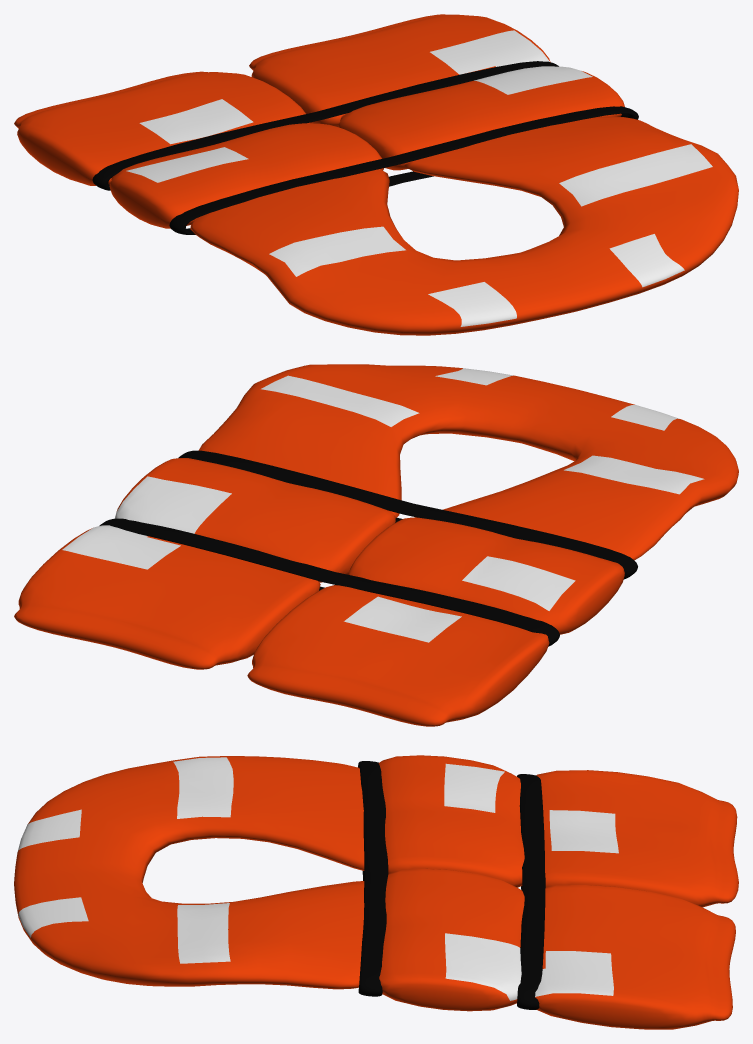
The model's file is flatjacket.fbx.
3 views of the same model, one above another, from view 1: azimuth 30°, elevation 25°; view 2: azimuth 150°, elevation 25°; view 3: azimuth 270°, elevation 25° (orthographic). The views are drawn at different scales.
Parts seen in each view (by area): view 1: pCube12; view 2: pCube12; view 3: pCube12.
Part boxes in pixels (x1,y1,x2,y2): pCube12: [14, 14, 738, 335]; pCube12: [14, 364, 738, 726]; pCube12: [14, 755, 738, 1029].
Bounding box in the file's own units: 1.96 × 0.2689 × 2.58.
